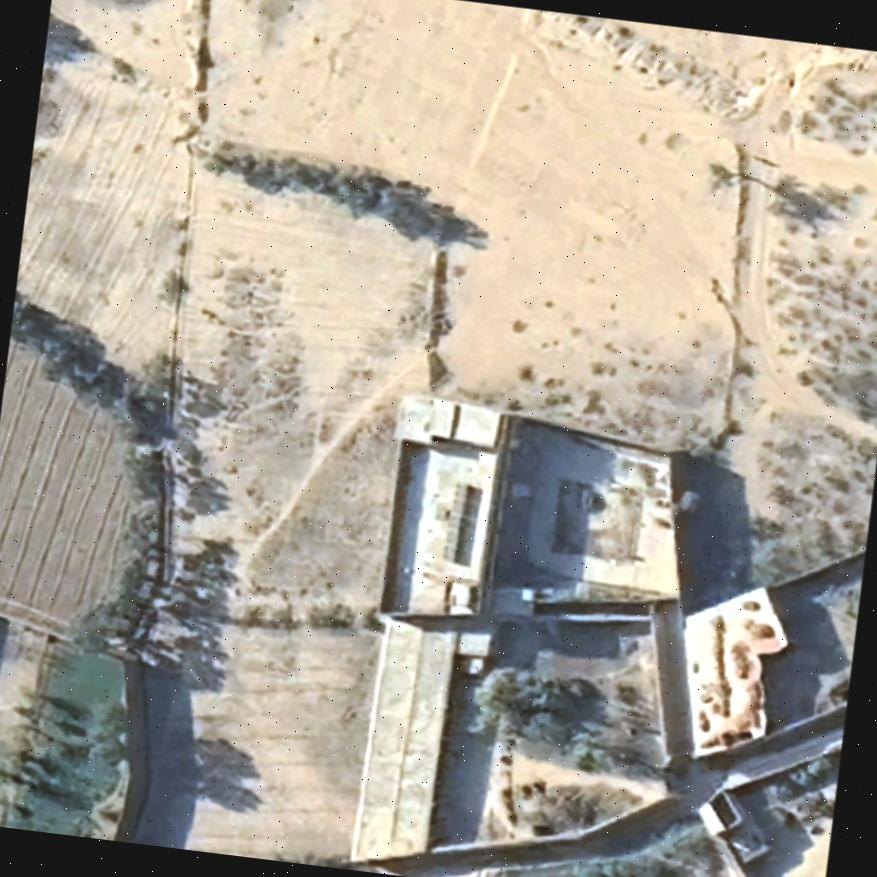Solarpanel: (440, 480, 468, 562)
